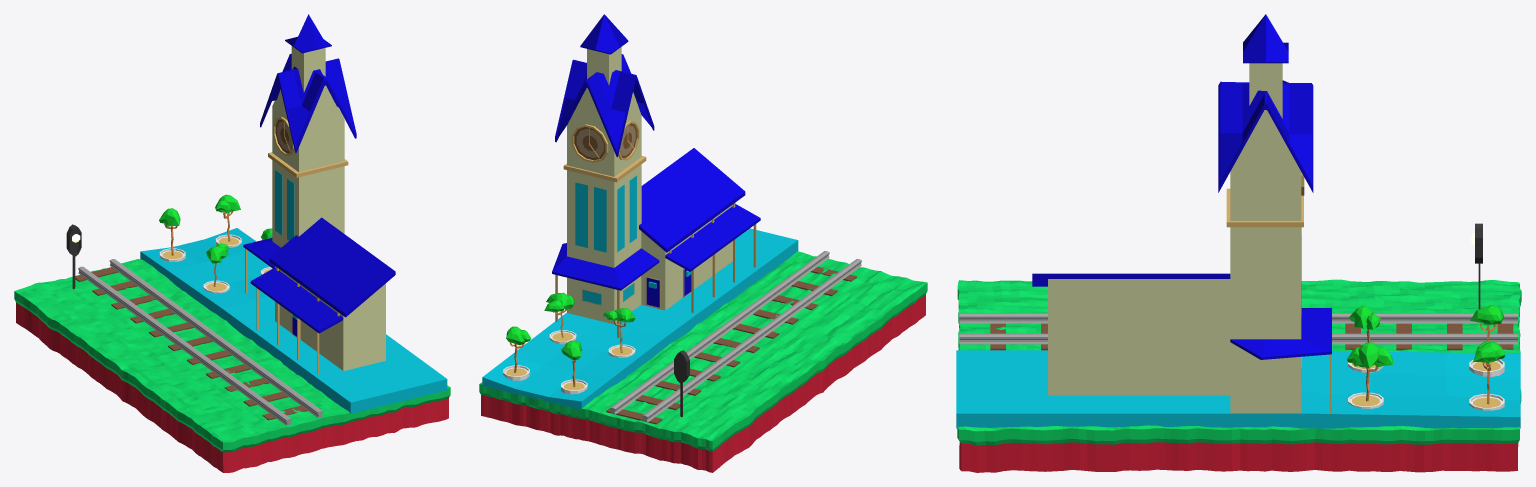
Rendered from trainStation.gltf.
The picture shows the model from 3 angles, left to right: view 1: azimuth 30°, elevation 25°; view 2: azimuth 150°, elevation 25°; view 3: azimuth 270°, elevation 25°; orthographic projection. The views are drawn at different scales.
Parts seen in each view (by area): view 1: Plane, Cube, Cube.001, Cube.030, Cube.008, Cube.016, Cube.017; view 2: Plane, Cube, Cube.001, Cube.030, Cube.011, Cube.015, Cube.014, Cube.008, Cube.016, Cube.017; view 3: Cube, Plane, Cube.001, Cube.030.
Part boxes in pixels (<box>): Plane: <box>14,259,450,472</box>; Cube: <box>243,14,395,370</box>; Cube.001: <box>140,228,447,413</box>; Cube.030: <box>75,259,322,425</box>; Cube.008: <box>273,117,294,155</box>; Cube.016: <box>275,169,282,235</box>; Cube.017: <box>287,178,294,240</box>; Plane: <box>479,251,927,472</box>; Cube: <box>552,14,760,324</box>; Cube.001: <box>482,228,798,409</box>; Cube.030: <box>606,251,861,424</box>; Cube.011: <box>571,124,608,162</box>; Cube.015: <box>594,187,606,252</box>; Cube.014: <box>575,182,587,247</box>; Cube.008: <box>618,121,639,160</box>; Cube.016: <box>617,184,624,252</box>; Cube.017: <box>629,175,636,242</box>; Cube: <box>1032,14,1331,412</box>; Plane: <box>957,279,1521,472</box>; Cube.001: <box>956,350,1520,428</box>; Cube.030: <box>959,313,1517,350</box>.
Bounding box in the file's own units: 8.36 × 10.85 × 12.55.
